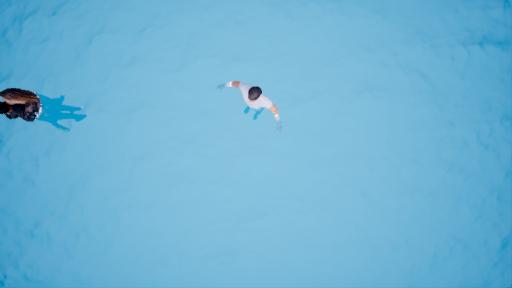person: (1, 83, 90, 136), (217, 77, 283, 130)
